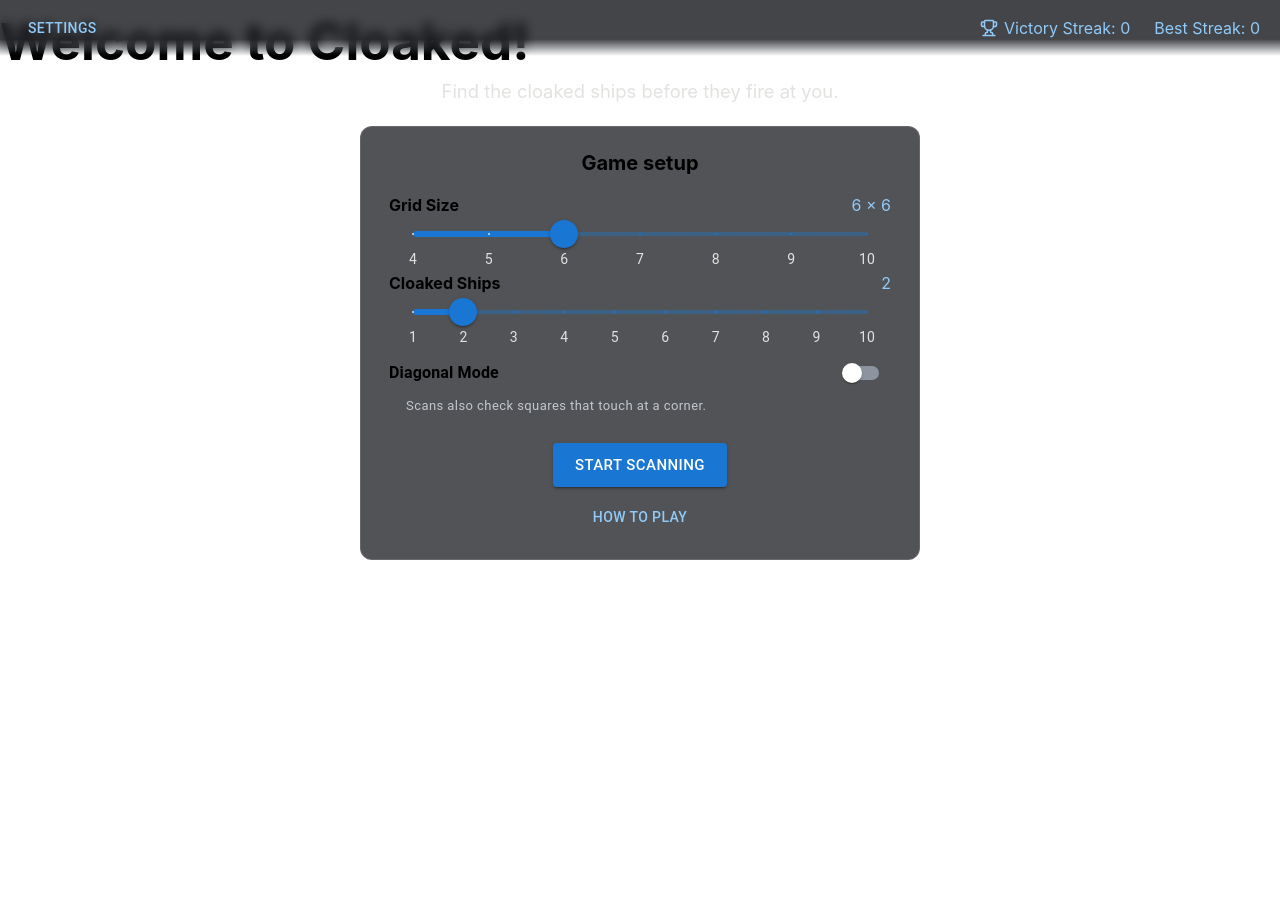
Test: setup screen › the How to Play dialog is named and shows the cell legend
Click the button "How to Play".
click(640, 517)  # box left=585, top=495, right=695, bottom=539
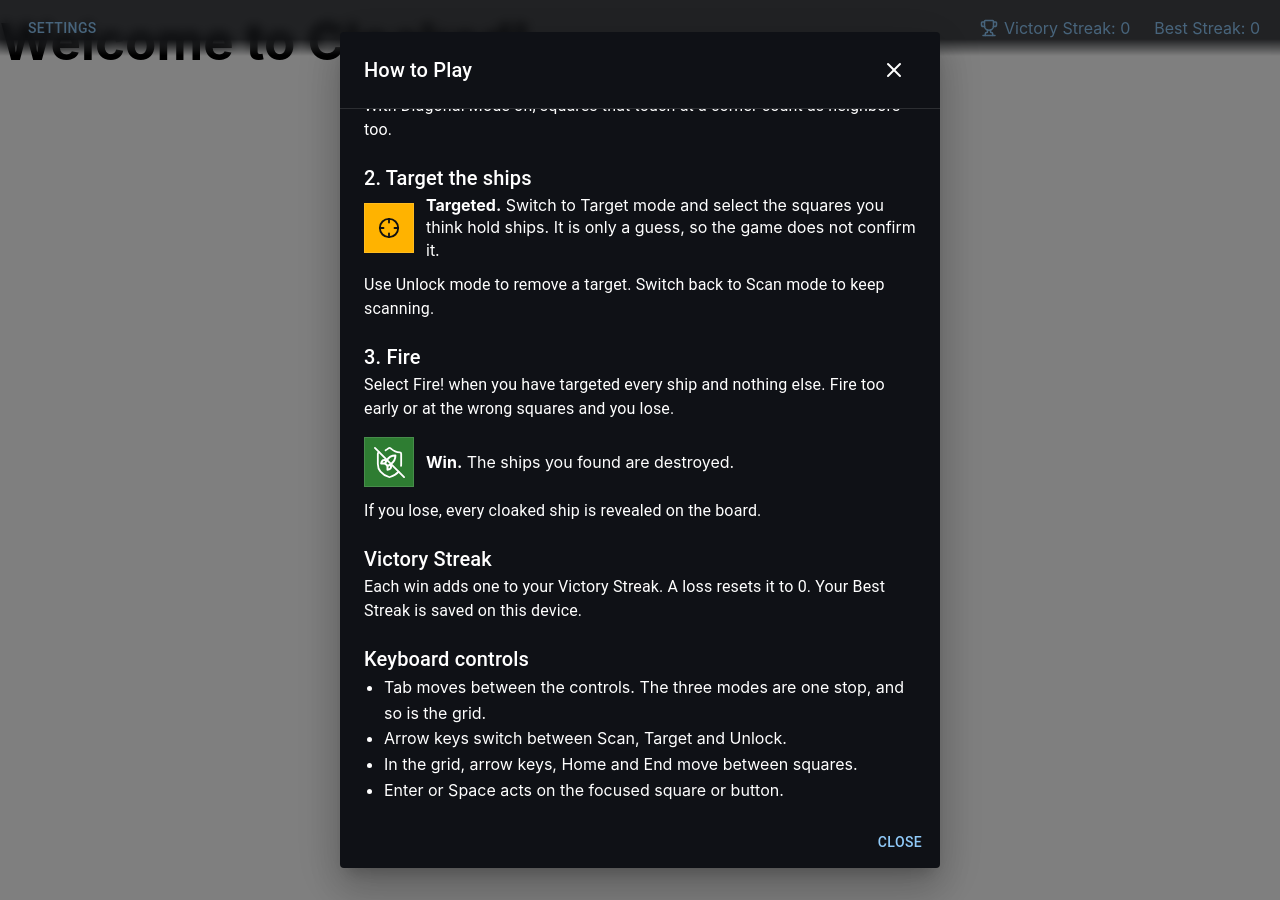
Now the heading "Victory Streak" is shown, box left=364, top=547, right=492, bottom=571
Now the button named "Close How to Play" is shown, box left=872, top=48, right=916, bottom=92
Now the button "Close" is shown, box left=868, top=824, right=932, bottom=860
